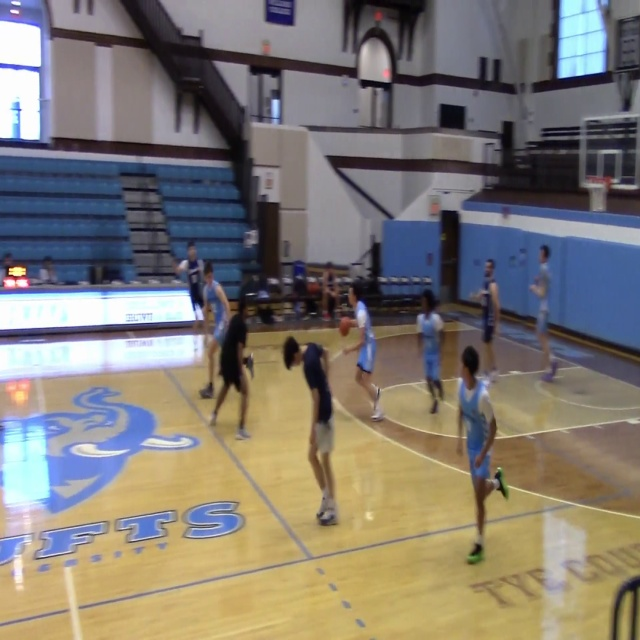Basketball: (339, 317, 351, 336)
